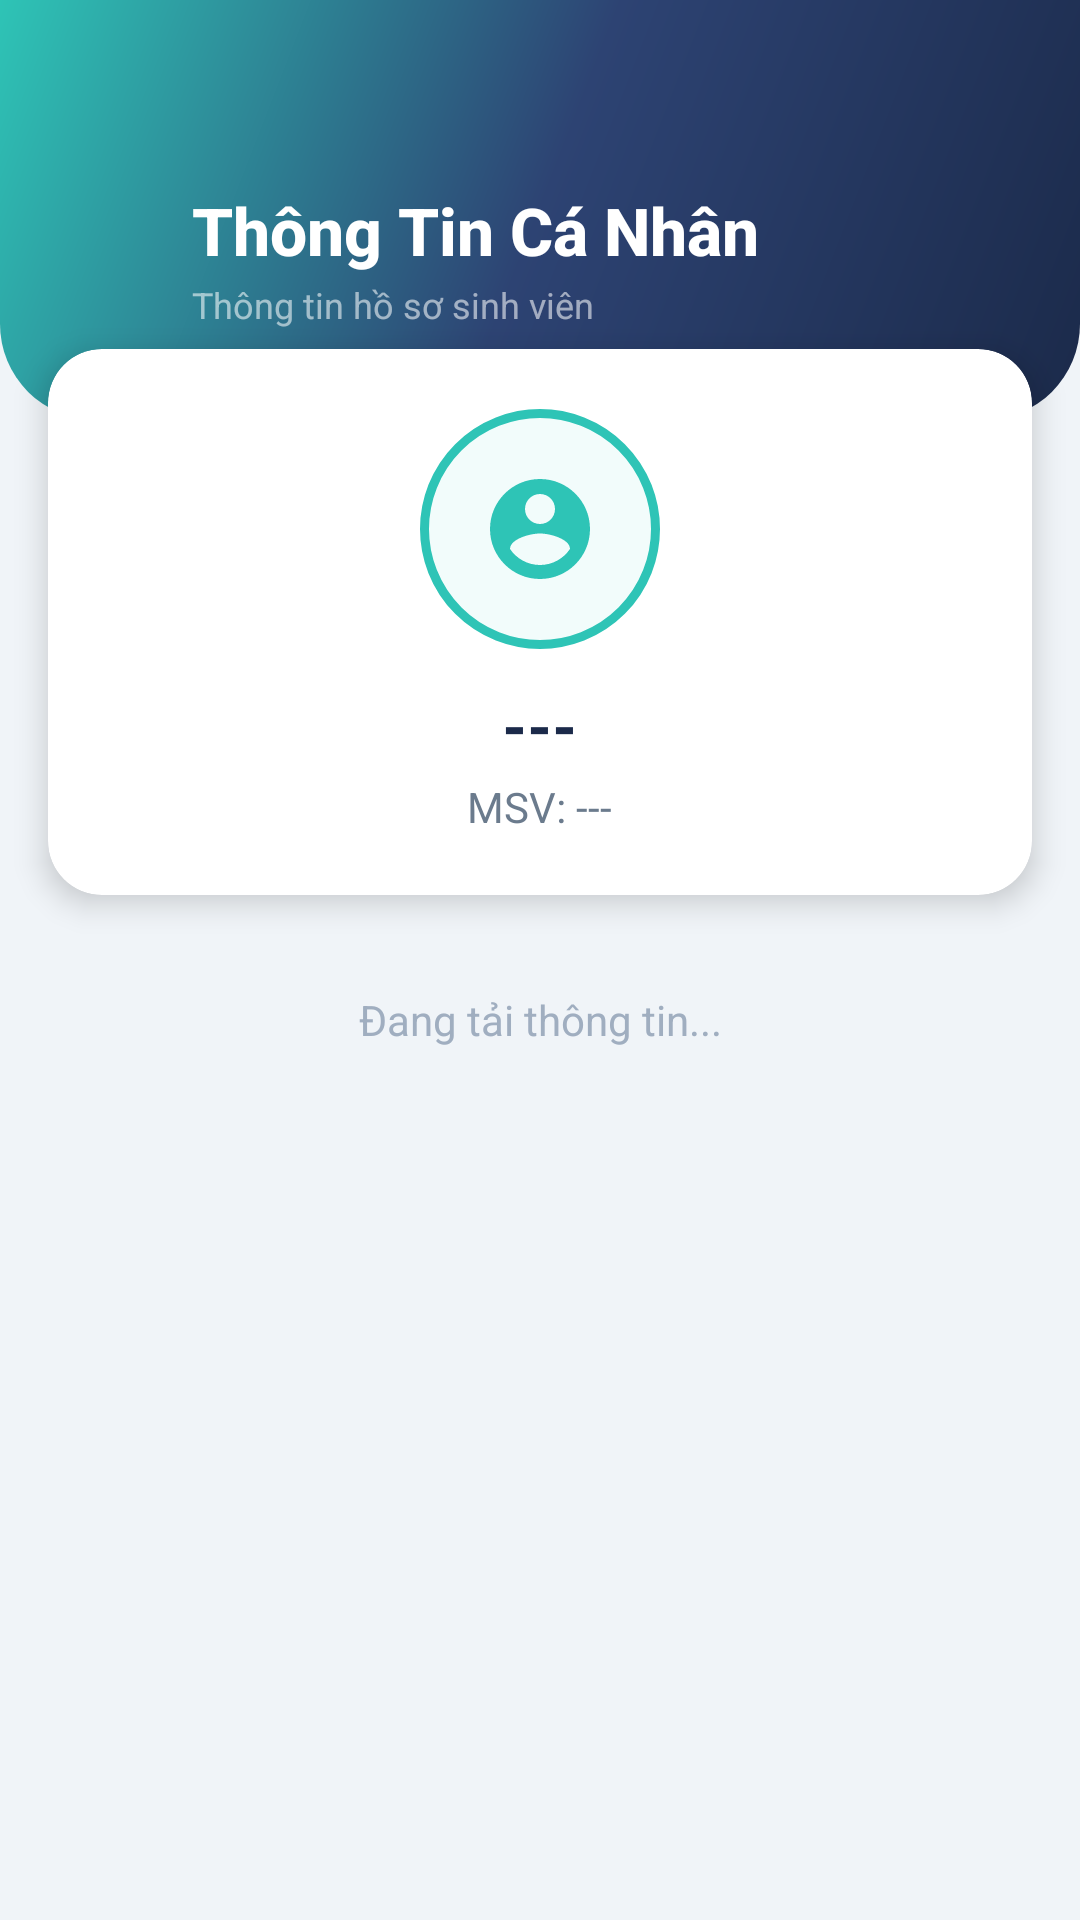

Screen size 1080w x 1920h. Icon name, then its center in pixels as point (x, y):
profile: point (540, 529)
